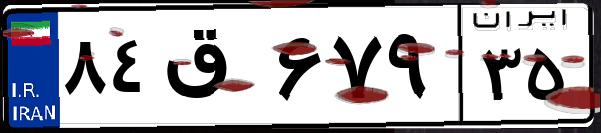3: (475, 38, 525, 113)
4: (110, 28, 158, 98)
5: (525, 38, 570, 115)
6: (270, 28, 330, 110)
7: (330, 28, 385, 110)
8: (57, 26, 110, 100)
9: (385, 28, 445, 110)
ق: (158, 20, 270, 120)
